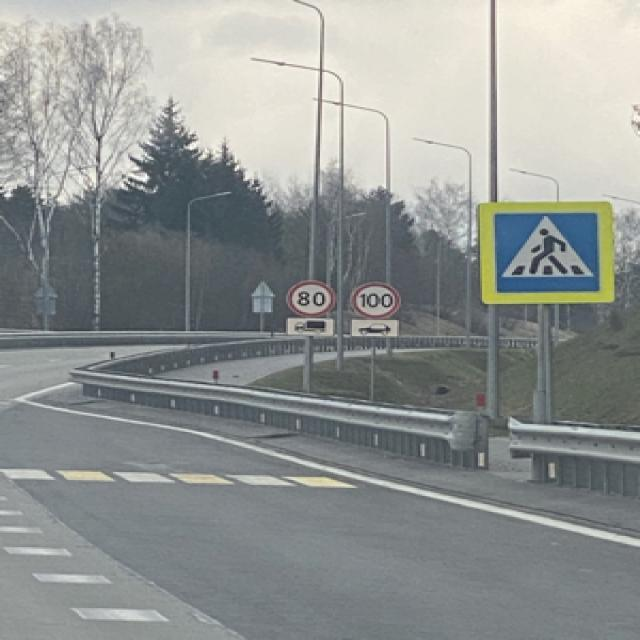crosswalk_sign: (488, 208, 608, 297)
